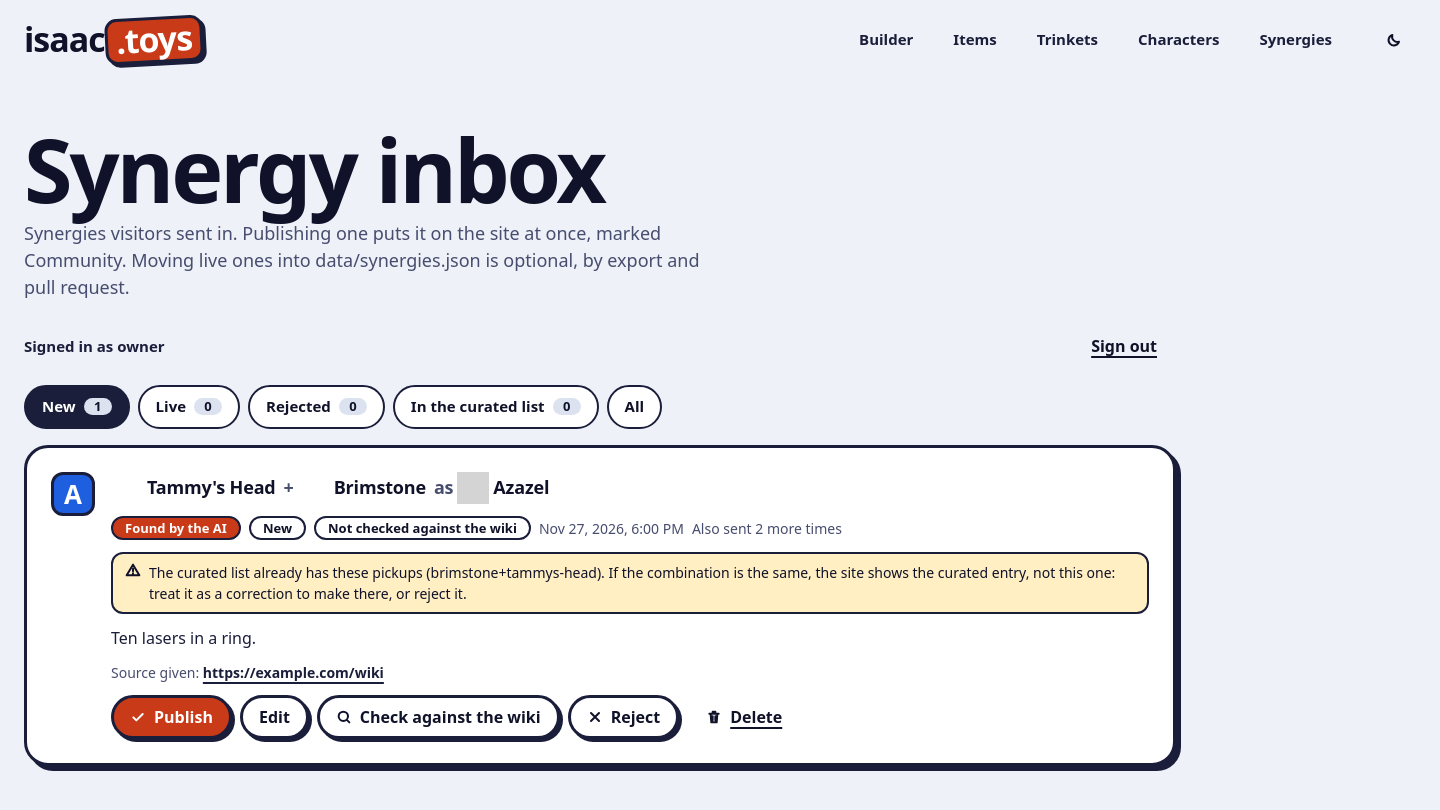
Test: admin inbox › says why a check didn't happen
Expected: the heading "Synergy inbox" is shown, [24,109,604,229]
Expected: the text "Ten lasers in a ring." is shown, [111,628,256,650]
Click the button "Check against the wiki" at [438, 718], box [317,696,560,740]
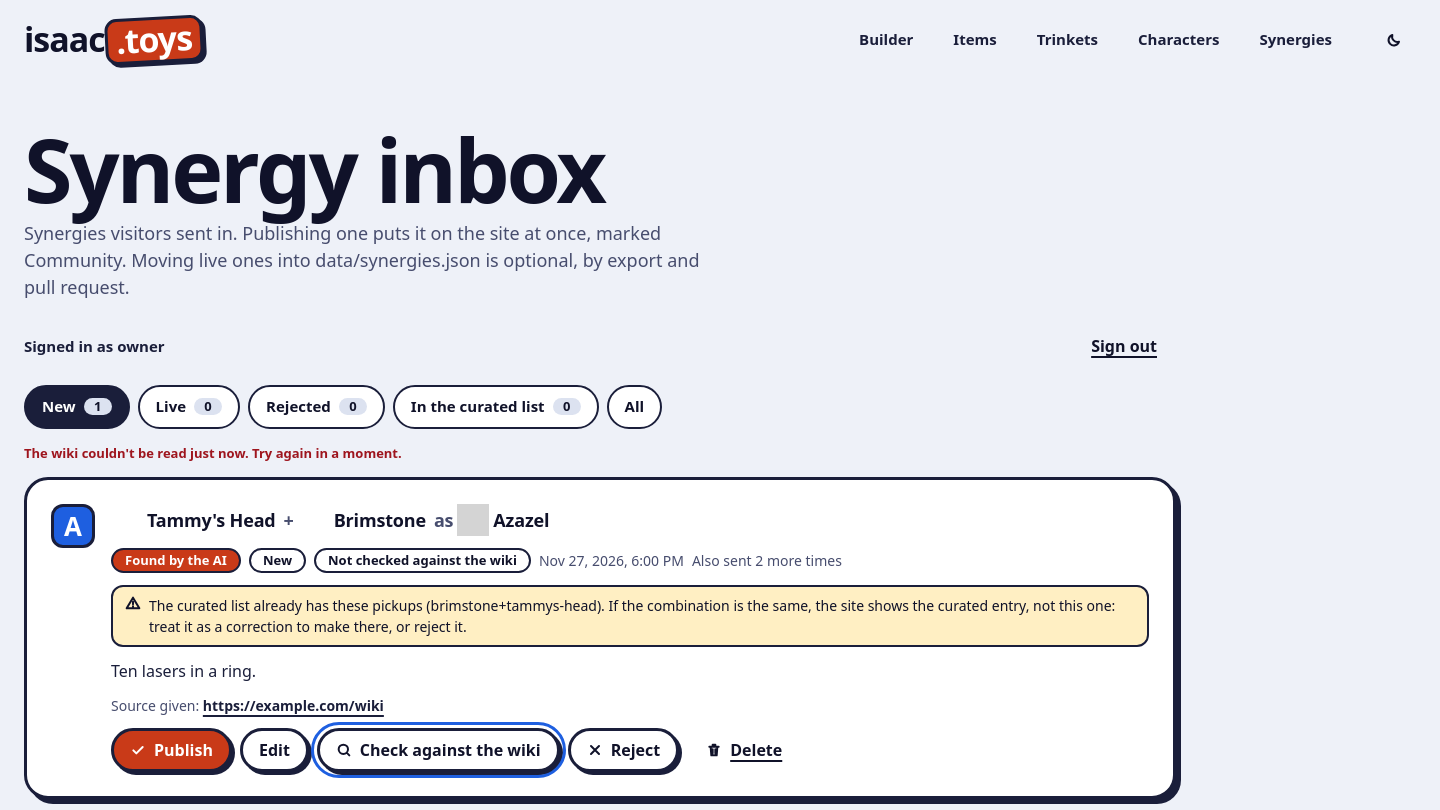
Expected: the message shows "The wiki couldn't be read just now.", [24,444,402,462]
